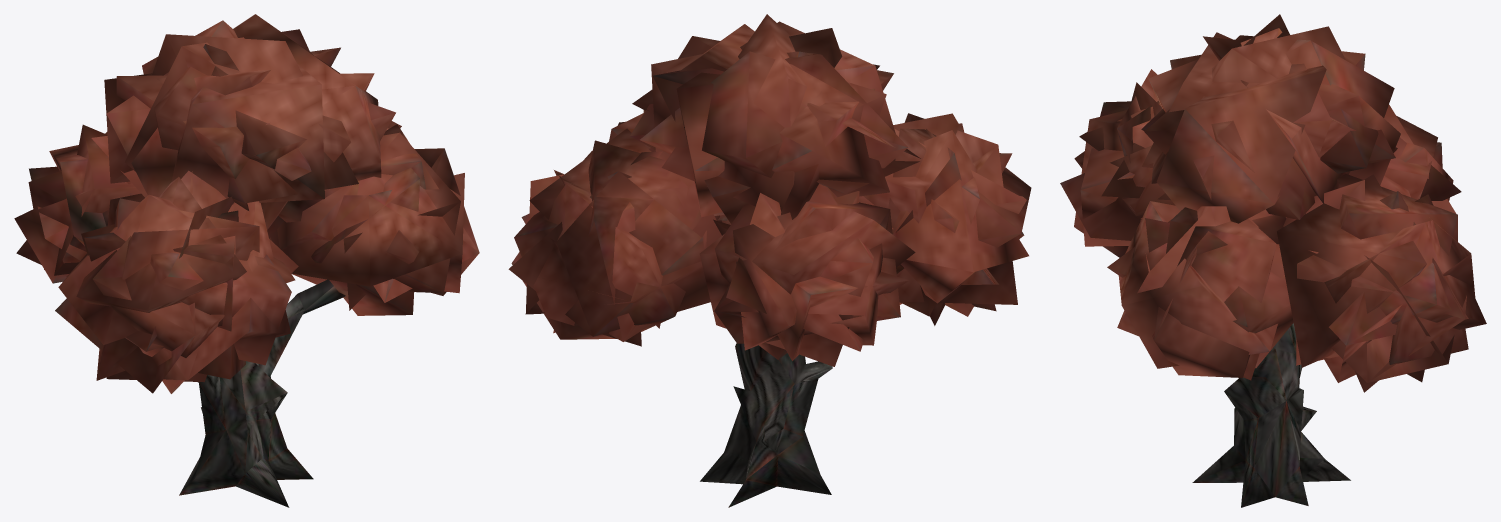
Rendered from jt-rouille-semis.glb.
3 views of the same model, side by side, from view 1: azimuth 30°, elevation 25°; view 2: azimuth 150°, elevation 25°; view 3: azimuth 270°, elevation 25° (orthographic).
Parts seen in each view (by area): view 1: jt-rouille-semis; view 2: jt-rouille-semis; view 3: jt-rouille-semis.
Part boxes in pixels (box(x1,y1,x2,y2)): jt-rouille-semis: box(14, 14, 479, 507); jt-rouille-semis: box(508, 14, 1031, 507); jt-rouille-semis: box(1060, 14, 1486, 507).
Size of the model in its own units: 1.96 by 1.99 by 1.74.
Materials: 1 (1 with a texture image).
